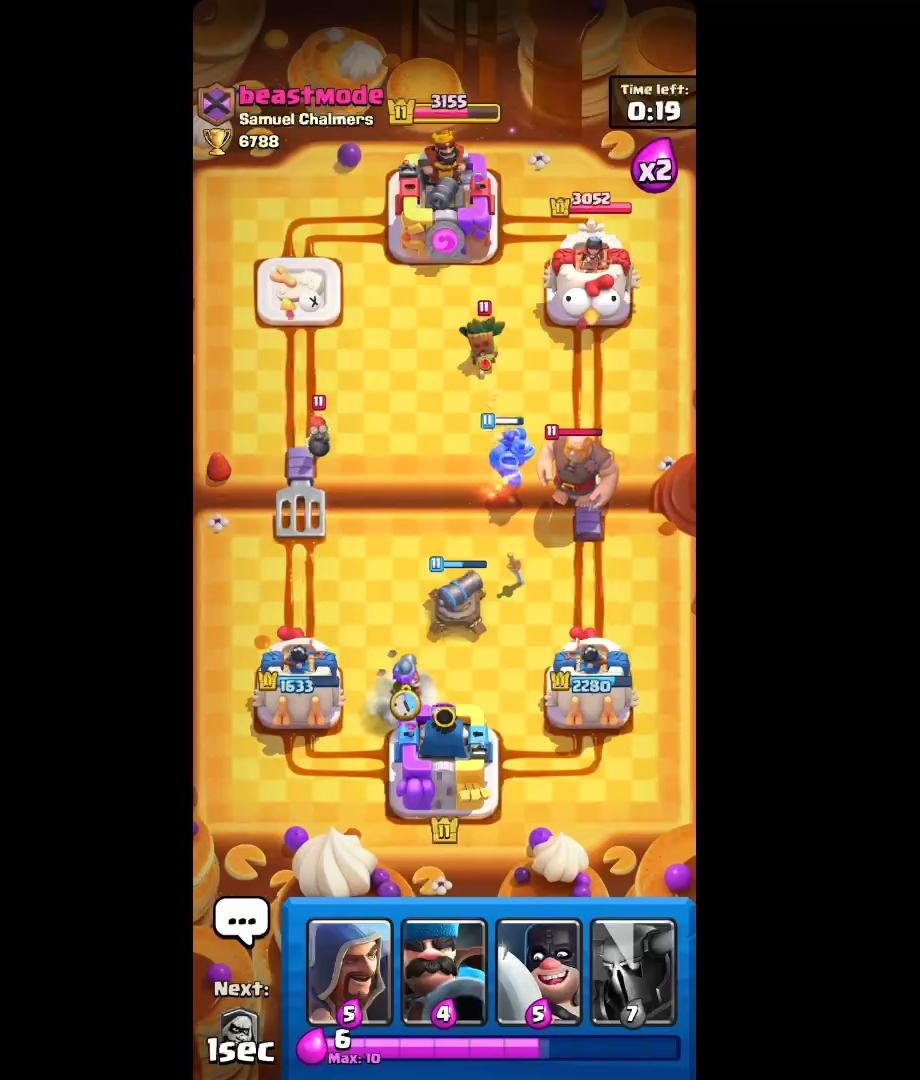Bomber: (301, 390, 344, 463)
Dart Goblin: (455, 296, 512, 377)
Giant: (537, 428, 619, 515)
